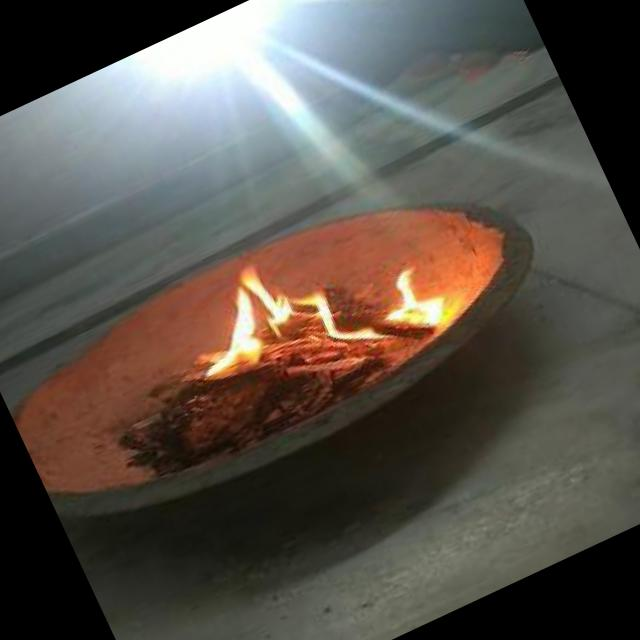fire: (172, 198, 459, 427)
